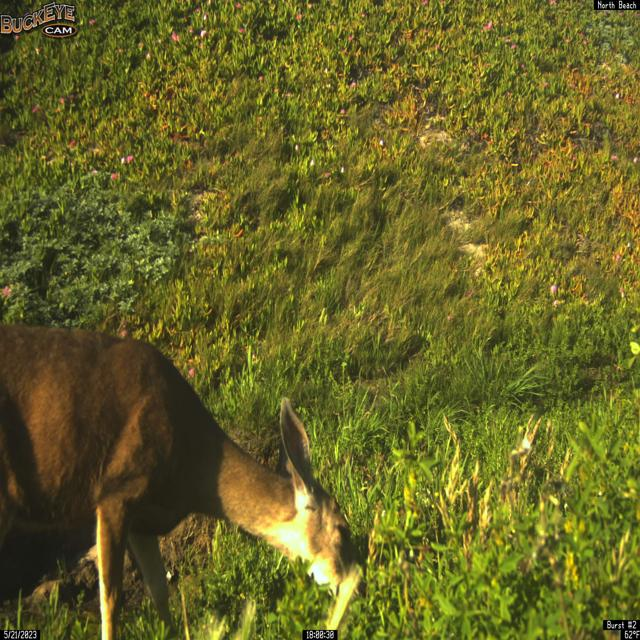deer: (0, 321, 363, 640)
